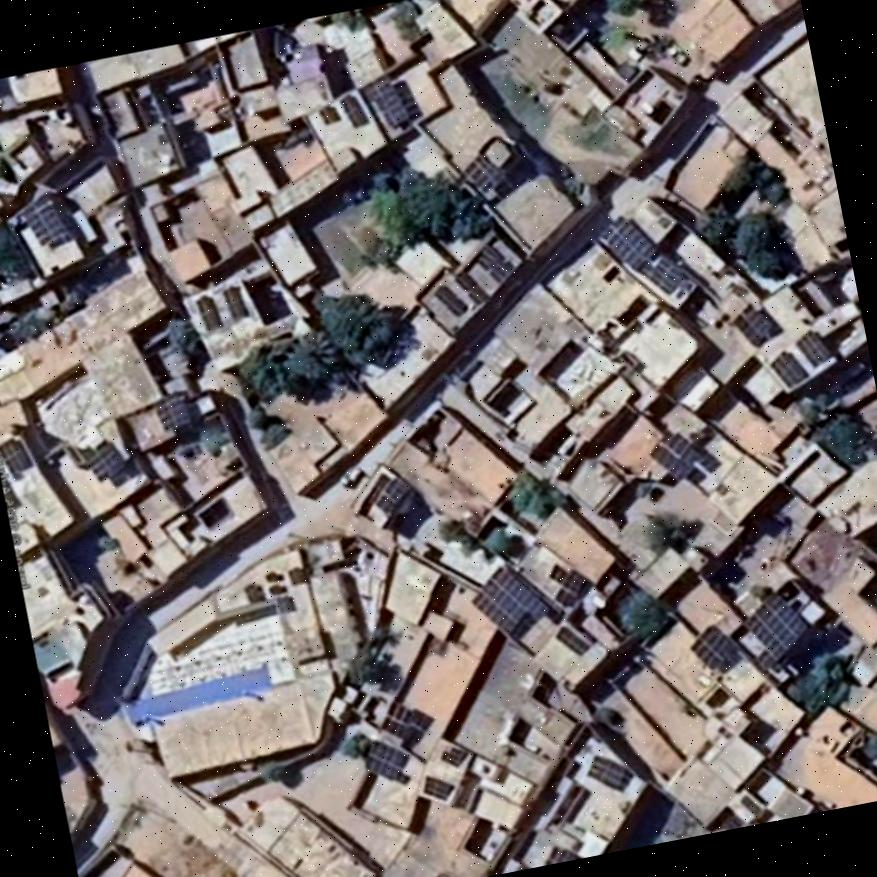Solarpanel: (470, 563, 547, 633), (744, 589, 808, 657), (601, 216, 654, 267), (647, 433, 701, 480), (689, 621, 737, 670), (18, 195, 67, 243), (363, 74, 409, 124), (85, 438, 126, 482), (362, 741, 407, 779), (734, 301, 769, 345), (462, 154, 502, 192), (153, 389, 190, 430), (587, 753, 629, 785), (647, 256, 684, 292), (796, 327, 830, 366), (769, 352, 806, 387), (378, 700, 409, 736), (432, 284, 466, 315), (0, 436, 30, 470), (456, 271, 488, 302), (194, 294, 218, 329), (222, 286, 246, 317), (420, 776, 452, 797)
